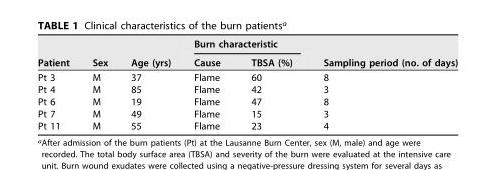table: (37, 37, 457, 131)
table column: (307, 37, 457, 131), (235, 37, 307, 131), (118, 37, 181, 131), (181, 37, 235, 131), (37, 37, 80, 131), (80, 37, 118, 131)
table column header: (37, 37, 457, 69)
table row: (37, 52, 457, 69), (37, 37, 457, 52), (37, 69, 457, 82), (37, 94, 457, 107), (37, 82, 457, 94), (37, 107, 457, 119), (37, 119, 457, 131)
table spanning cell: (307, 37, 457, 69), (118, 37, 181, 69), (181, 37, 307, 52), (37, 37, 80, 69), (80, 37, 118, 69)
